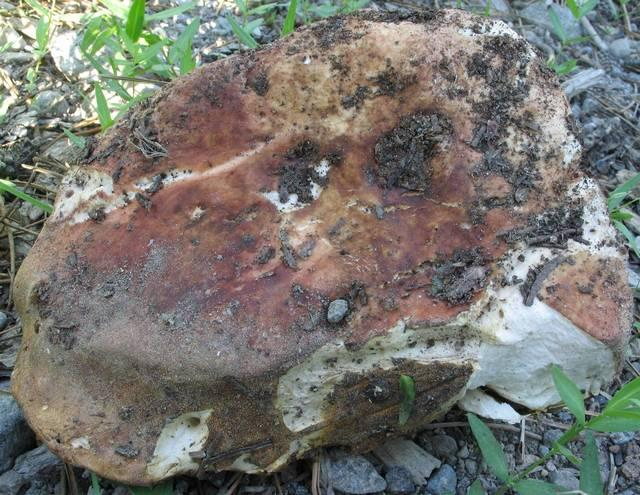Edible Mushroom: (9, 5, 635, 489)
